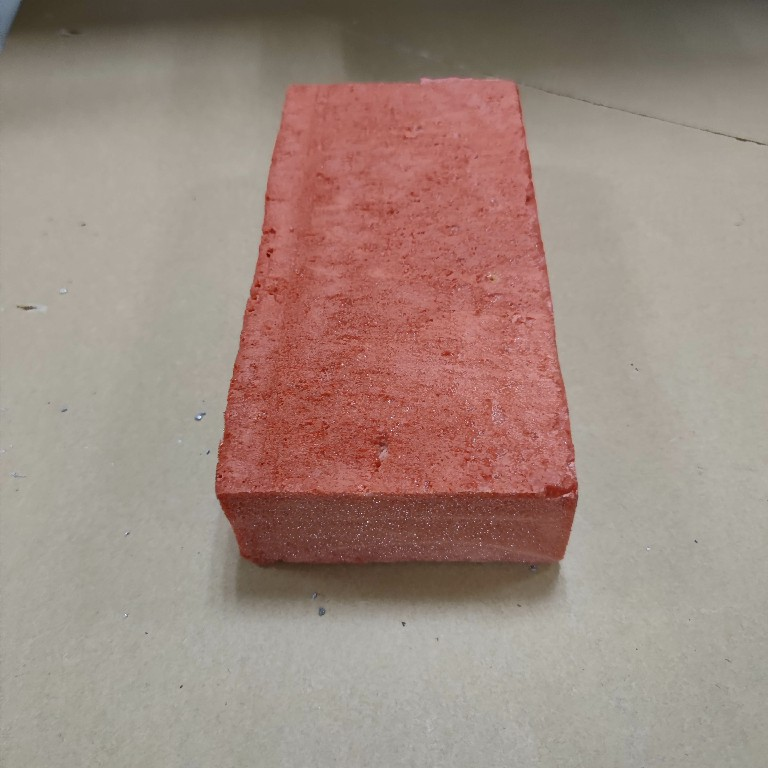brick: (211, 74, 583, 568)
